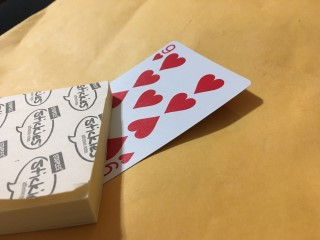NineOfHearts: (103, 40, 251, 185)
